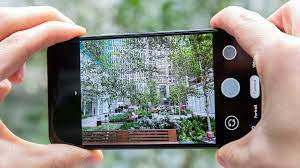camera: (218, 78, 243, 99)
